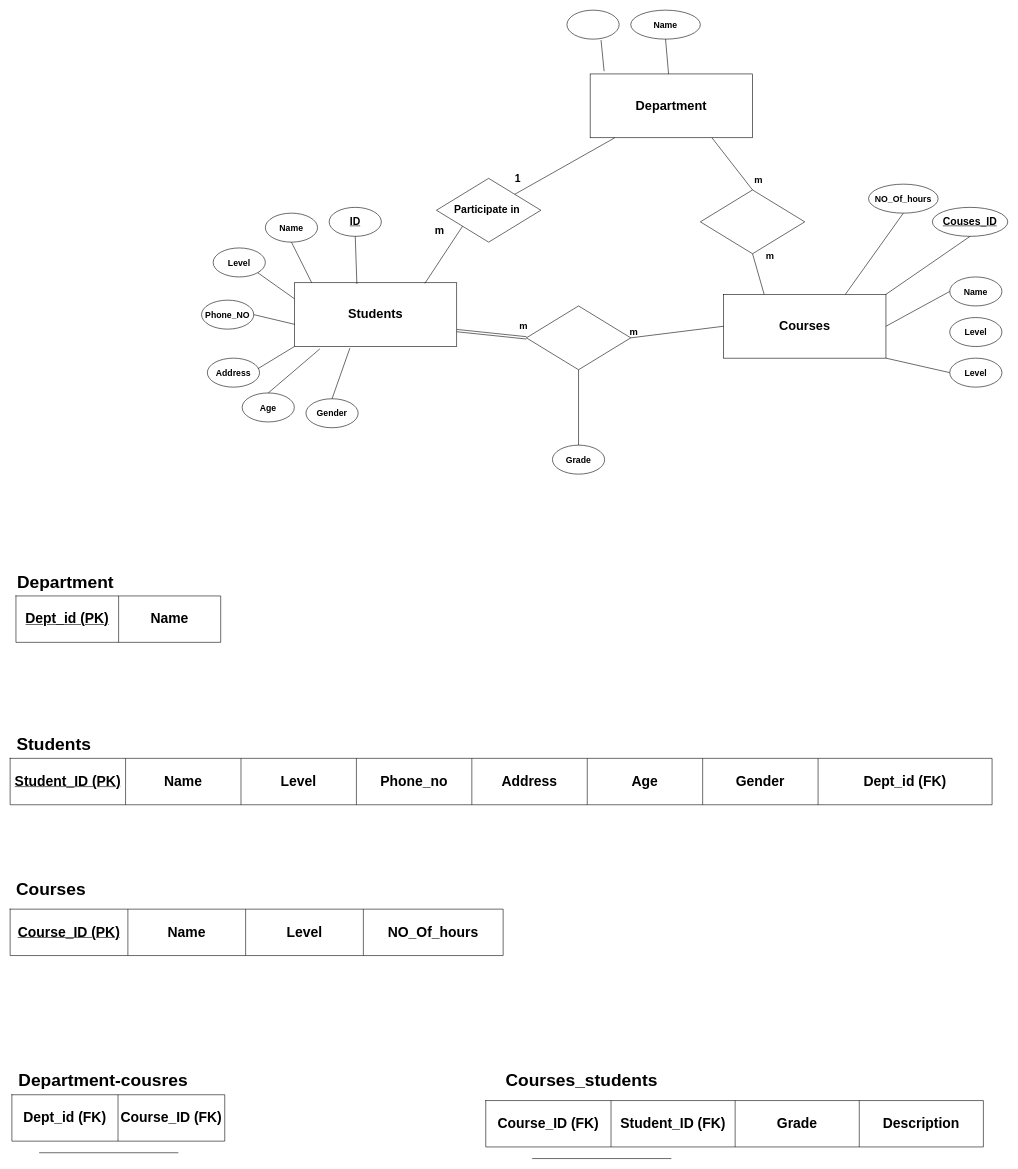
The diagram is 1018 pixels wide and 1169 high, and some of its shapes have lost their labels. Here are the shapes that lost their labels. From the top down, the centre of each, then its label:
At (x=592, y=24): "Dept_ID".
At (x=752, y=221): "Have".
At (x=578, y=337): "Enroll".
